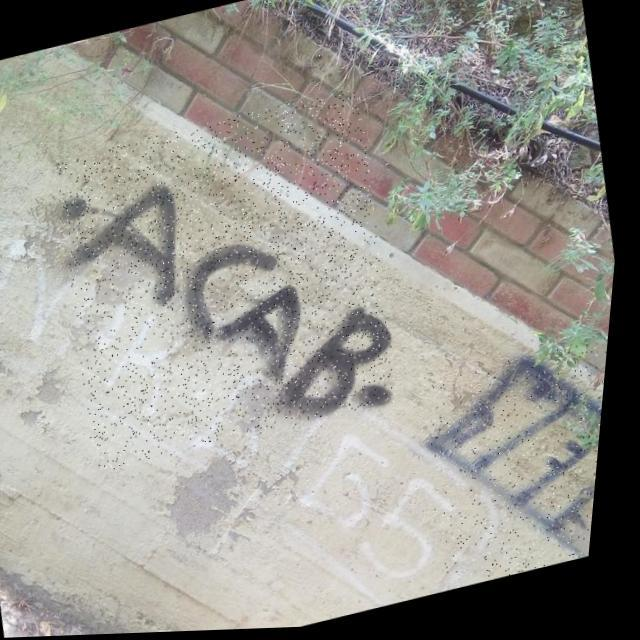-: (36, 86, 428, 478), (414, 338, 616, 594)
